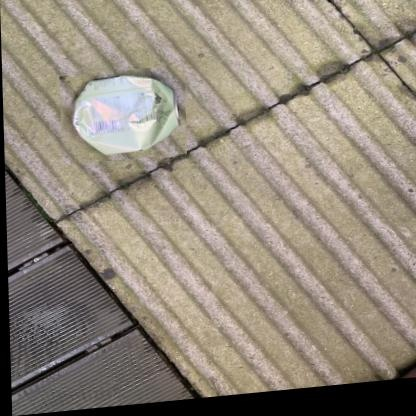trash: (73, 76, 177, 154)
